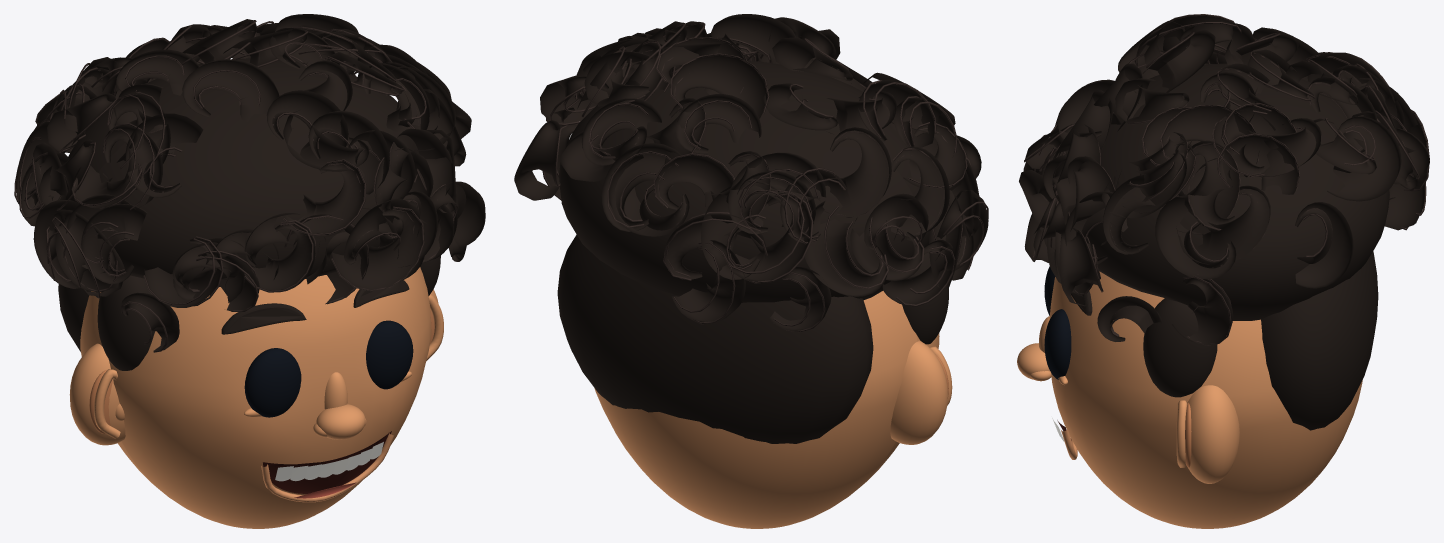
Rendered from biswas-head-v3.glb.
The picture shows the model from 3 angles, left to right: view 1: azimuth 30°, elevation 25°; view 2: azimuth 150°, elevation 25°; view 3: azimuth 270°, elevation 25°; orthographic projection. The views are drawn at different scales.
Visible parts, largest first — view 1: HeadSurface4, HeadSurface0, HeadSurface9, HeadSurface1, HeadSurface3, HeadSurface5, HeadSurface6, HeadSurface8, HeadSurface2; view 2: HeadSurface4, HeadSurface0, HeadSurface9, HeadSurface1; view 3: HeadSurface4, HeadSurface0, HeadSurface9, HeadSurface1, HeadSurface3.
Boxes of the visible parts, box(x1,y1,x2,y2) form: HeadSurface4: box(16, 14, 485, 370); HeadSurface0: box(80, 267, 431, 528); HeadSurface9: box(14, 20, 457, 352); HeadSurface1: box(69, 289, 443, 445); HeadSurface3: box(244, 320, 413, 417); HeadSurface5: box(263, 431, 391, 493); HeadSurface6: box(275, 442, 383, 481); HeadSurface8: box(261, 432, 394, 502); HeadSurface2: box(89, 309, 434, 437); HeadSurface4: box(514, 14, 988, 443); HeadSurface0: box(594, 291, 939, 528); HeadSurface9: box(542, 22, 988, 332); HeadSurface1: box(890, 341, 952, 444); HeadSurface4: box(1019, 16, 1429, 430); HeadSurface0: box(1049, 271, 1362, 528); HeadSurface9: box(1023, 14, 1429, 345); HeadSurface1: box(1017, 316, 1239, 483); HeadSurface3: box(1044, 266, 1071, 379).
Size of the model in its own units: 1.85 by 2.01 by 1.62.
